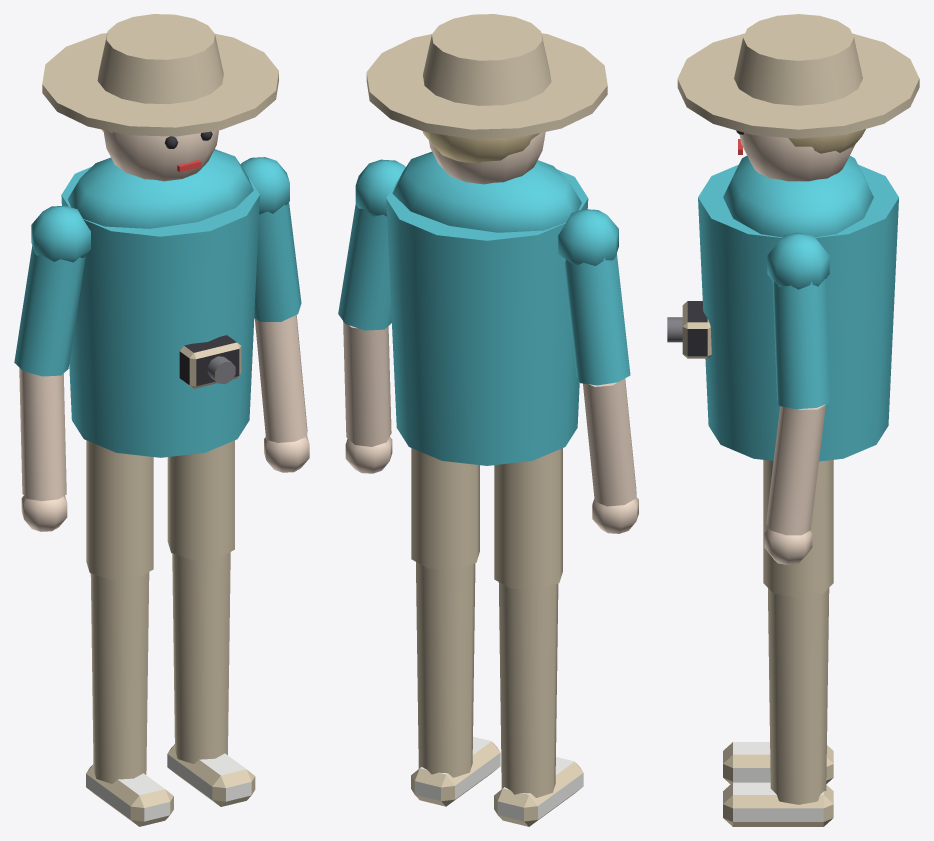
Rendered from SM_NPC_Tourist.fbx.
3 renders of one model, left to right at view 1: azimuth 30°, elevation 25°; view 2: azimuth 150°, elevation 25°; view 3: azimuth 270°, elevation 25°, orthographic.
Parts seen in each view (by area): view 1: SM_NPC_Tourist; view 2: SM_NPC_Tourist; view 3: SM_NPC_Tourist.
Part boxes in pixels (x1=…): SM_NPC_Tourist: x1=14, y1=14, x2=309, y2=826; SM_NPC_Tourist: x1=338, y1=14, x2=638, y2=826; SM_NPC_Tourist: x1=667, y1=14, x2=919, y2=826.
Bounding box in the file's own units: 0.6571 × 1.67 × 0.5.
